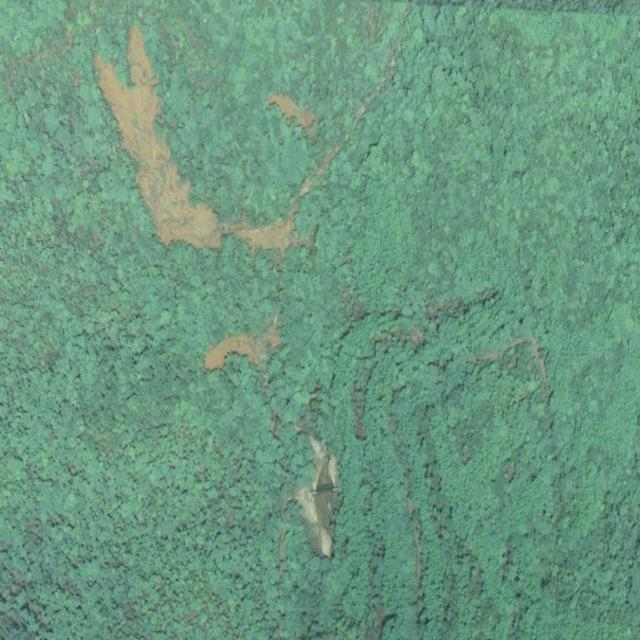landslide: (95, 27, 338, 250), (285, 434, 341, 558), (205, 317, 282, 370), (268, 94, 317, 131)
